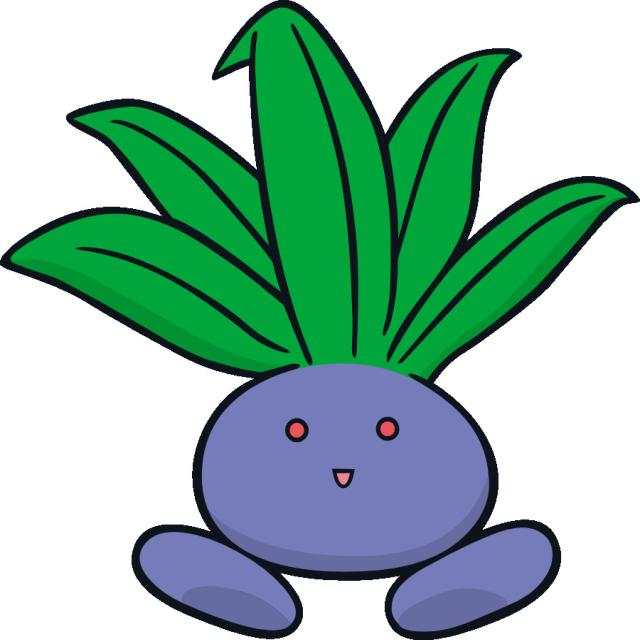Oddish: (123, 149, 568, 640)
